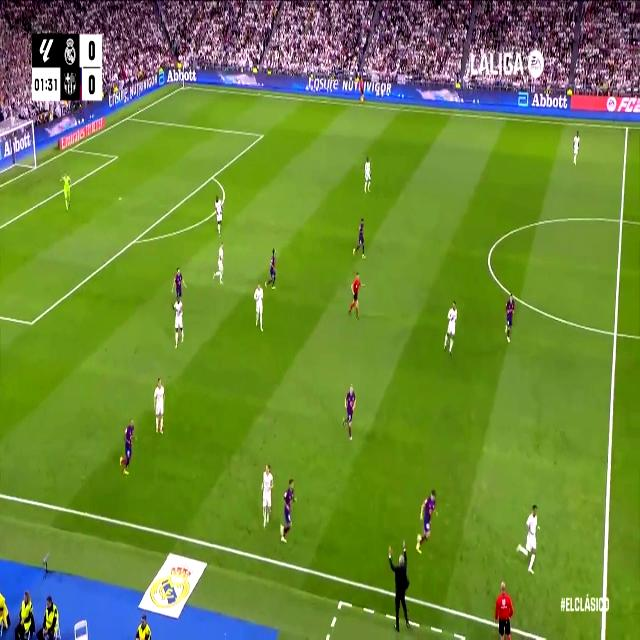bigarea_bottom_inner: (26, 311, 36, 334)
bigarea_top_inner: (258, 128, 265, 142)
bigarea_top_outter: (126, 111, 132, 122)
bottom_arc_area_intersection: (130, 232, 140, 248)
corner: (180, 82, 188, 90)
halfcircle_bottom: (610, 320, 622, 346)
midline_top_intersection: (624, 120, 630, 134)
smallarea_top_inner: (114, 151, 118, 161)
top_arc_area_intersection: (208, 169, 216, 183)
